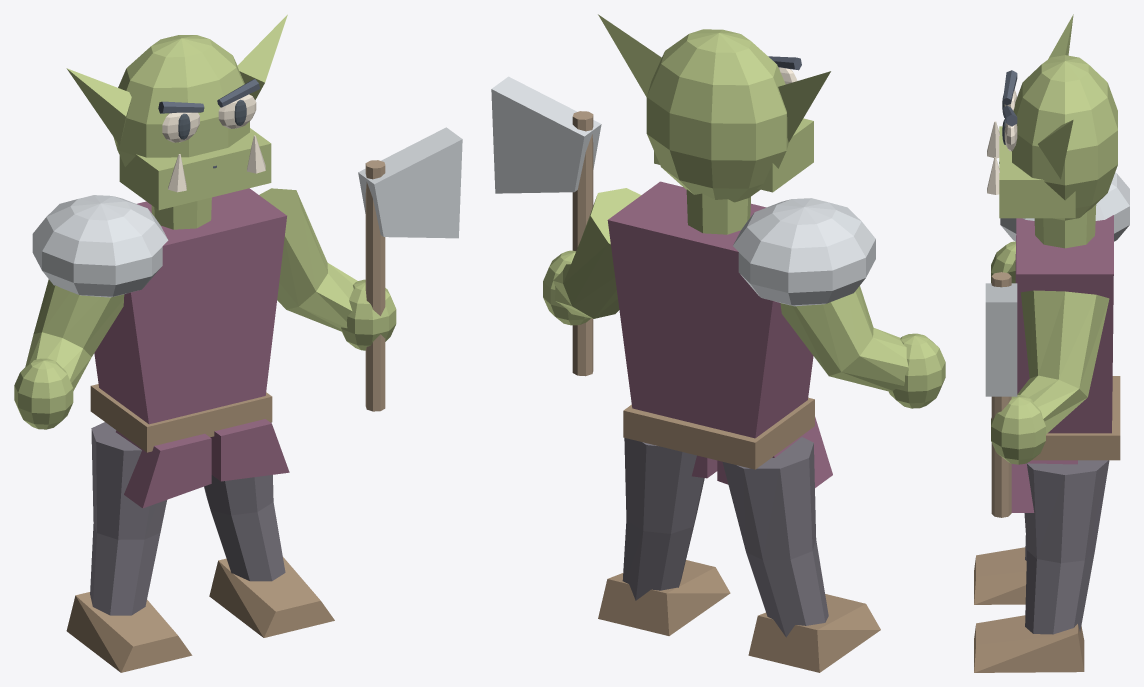
Rendered from warrior.glb.
3 views of the same model, side by side, from view 1: azimuth 30°, elevation 25°; view 2: azimuth 150°, elevation 25°; view 3: azimuth 270°, elevation 25° (orthographic). The views are drawn at different scales.
Parts seen in each view (by area): view 1: torso, head, single_shoulder_plate, leg_-1, axe_head, arm_1, jaw, leg_1, foot_-1, arm_-1, foot_1, belt (+10 smaller); view 2: torso, head, leg_-1, single_shoulder_plate, leg_1, axe_head, arm_-1, belt, foot_-1, foot_1, arm_1, axe_handle (+7 smaller); view 3: leg_1, head, torso, arm_1, foot_1, axe_head, jaw, hand_1, foot_-1, belt, axe_handle, neck (+9 smaller).
Boxes of the visible parts, <box> form: torso: <box>94,188,286,424</box>; head: <box>113,35,249,166</box>; single_shoulder_plate: <box>32,195,168,297</box>; leg_-1: <box>90,422,166,615</box>; axe_head: <box>358,127,462,238</box>; arm_1: <box>259,188,357,331</box>; jaw: <box>119,128,271,210</box>; leg_1: <box>204,422,285,581</box>; foot_-1: <box>66,592,192,672</box>; arm_-1: <box>25,279,124,390</box>; foot_1: <box>209,557,334,637</box>; belt: <box>90,384,272,452</box>; torso: <box>607,181,813,438</box>; head: <box>646,29,788,202</box>; leg_-1: <box>722,437,828,637</box>; single_shoulder_plate: <box>733,198,875,306</box>; leg_1: <box>622,438,704,600</box>; axe_head: <box>491,76,601,193</box>; arm_-1: <box>780,286,908,392</box>; belt: <box>623,397,814,469</box>; foot_-1: <box>748,594,880,672</box>; foot_1: <box>598,560,730,635</box>; arm_1: <box>553,188,640,318</box>; axe_handle: <box>572,111,593,376</box>; leg_1: <box>1024,460,1109,634</box>; head: <box>1012,55,1117,220</box>; torso: <box>1015,215,1113,433</box>; arm_1: <box>1017,290,1109,434</box>; foot_1: <box>974,615,1084,672</box>; axe_head: <box>985,283,1017,396</box>; jaw: <box>999,126,1075,218</box>; hand_1: <box>991,395,1045,464</box>; foot_-1: <box>974,547,1026,604</box>; belt: <box>1032,376,1120,460</box>; axe_handle: <box>991,272,1011,517</box>; neck: <box>1034,204,1096,248</box>.
Size of the model in its own units: 1.64 by 2.1 by 0.529.
